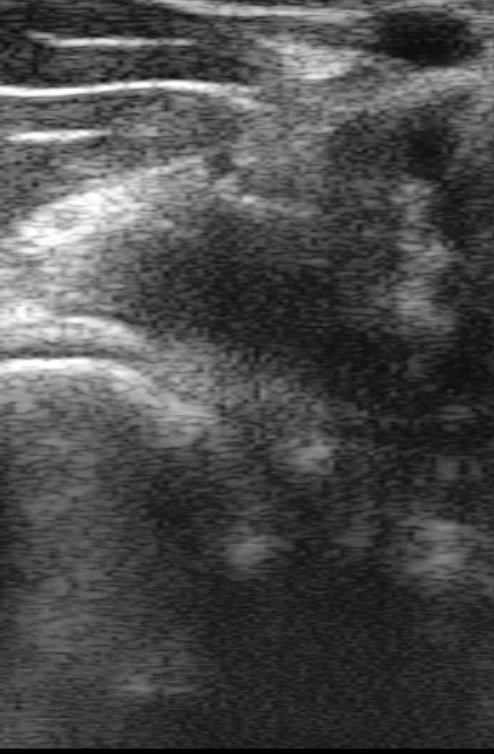veins_detect: (358, 3, 489, 78)
veins_seg: (376, 7, 477, 68)
